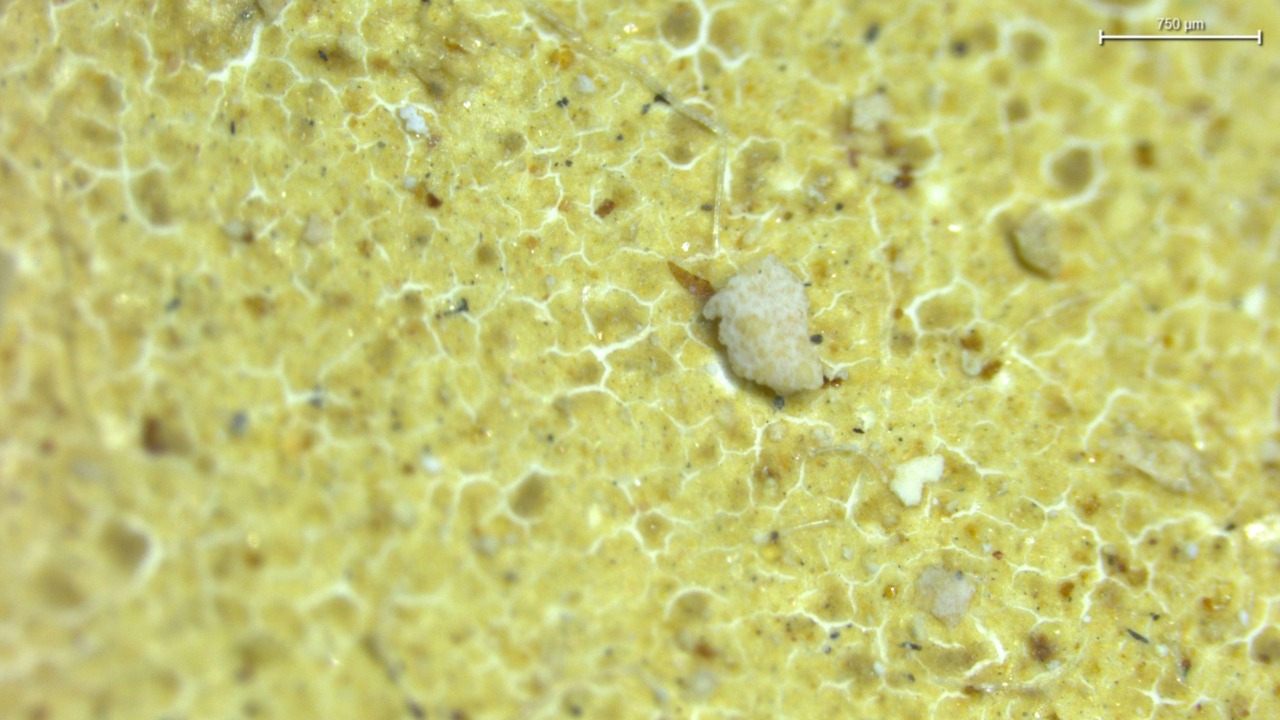microplastic_fragment: (703, 255, 823, 395), (1011, 210, 1060, 277), (890, 455, 944, 506)
